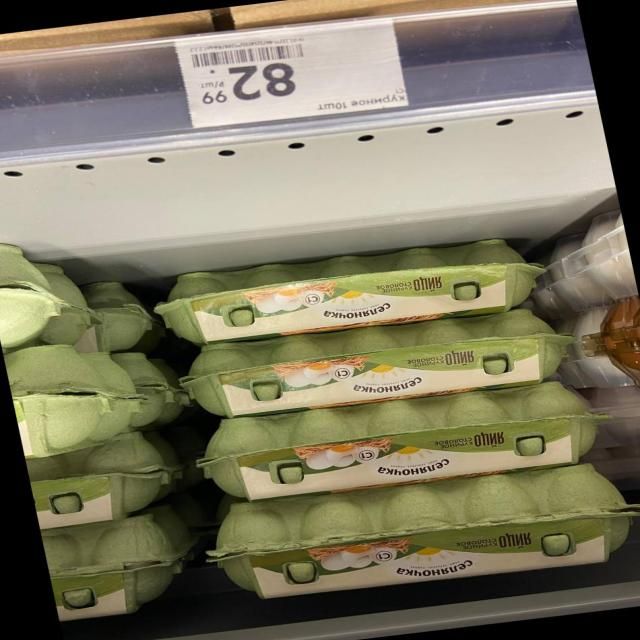organic waste: (198, 460, 640, 613), (190, 379, 616, 508), (173, 302, 577, 429), (147, 228, 551, 354), (39, 504, 200, 628), (4, 340, 145, 464), (24, 435, 183, 532)
